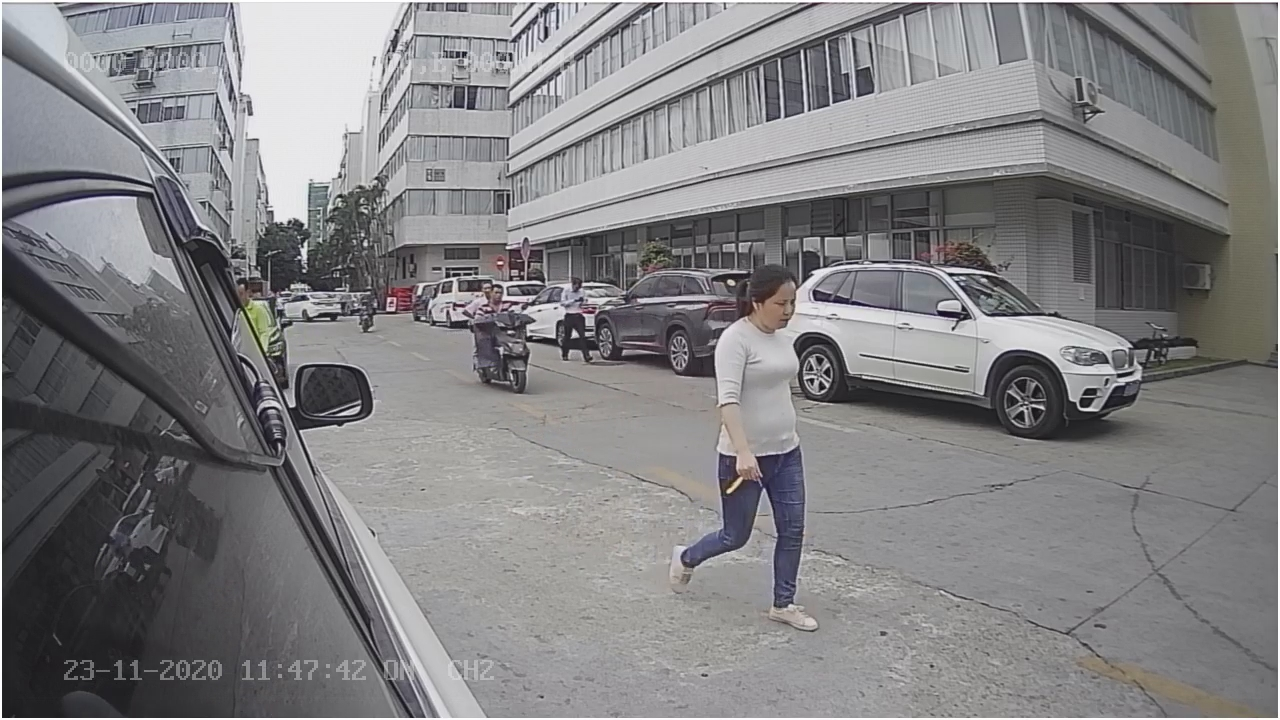person: (666, 252, 829, 630)
